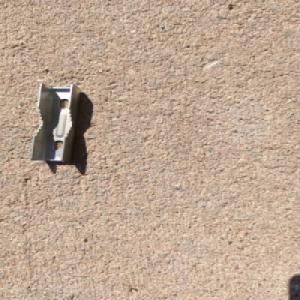ClampPart: (28, 82, 84, 164)
